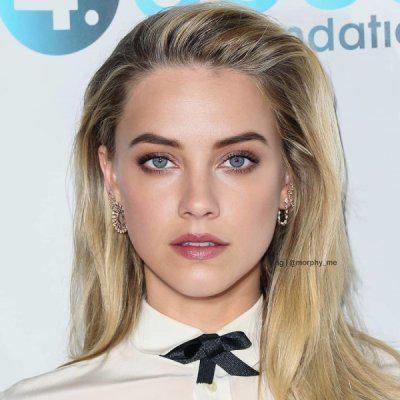Sober: (122, 69, 277, 287)
